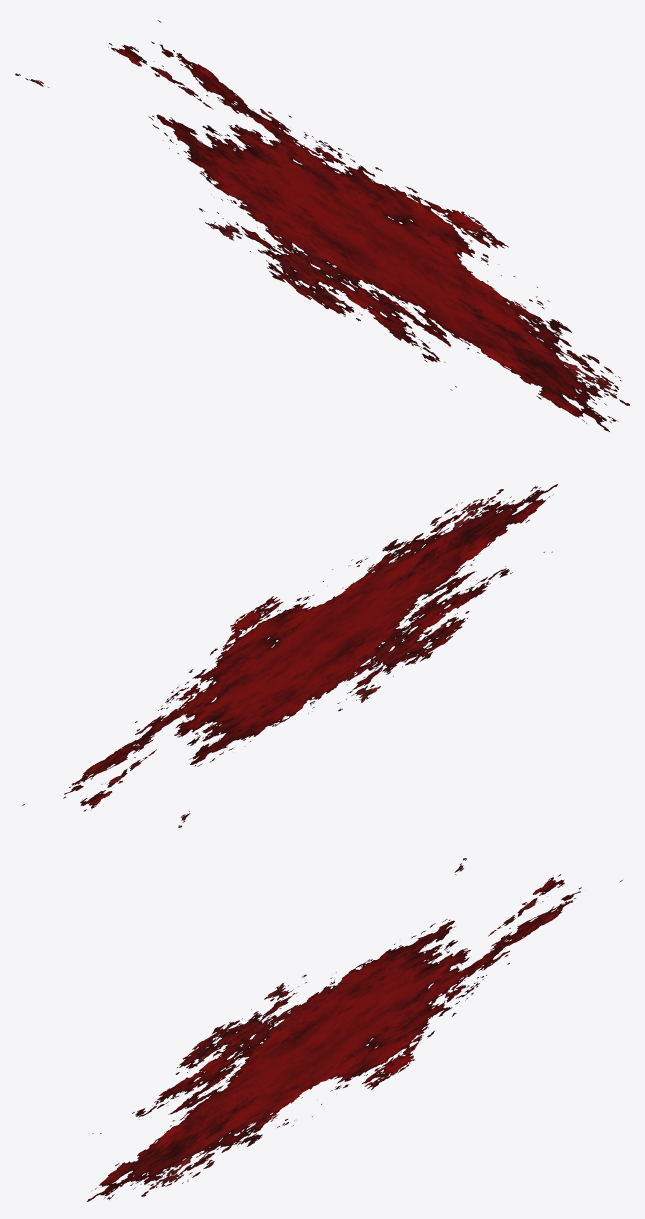
The model's file is wallBlood.fbx.
3 renders of one model, top to bottom at view 1: azimuth 30°, elevation 25°; view 2: azimuth 150°, elevation 25°; view 3: azimuth 330°, elevation 25°, orthographic. The views are drawn at different scales.
Visible parts, largest first — view 1: BloodMesh_15983.Shape; view 2: BloodMesh_15983.Shape; view 3: BloodMesh_15983.Shape.
Part boxes in pixels (box(x1,y1,x2,y2)): BloodMesh_15983.Shape: box(15, 20, 629, 431); BloodMesh_15983.Shape: box(22, 484, 557, 827); BloodMesh_15983.Shape: box(87, 858, 622, 1201).
Bounding box in the file's own units: 72.01 × 0.1231 × 317.
